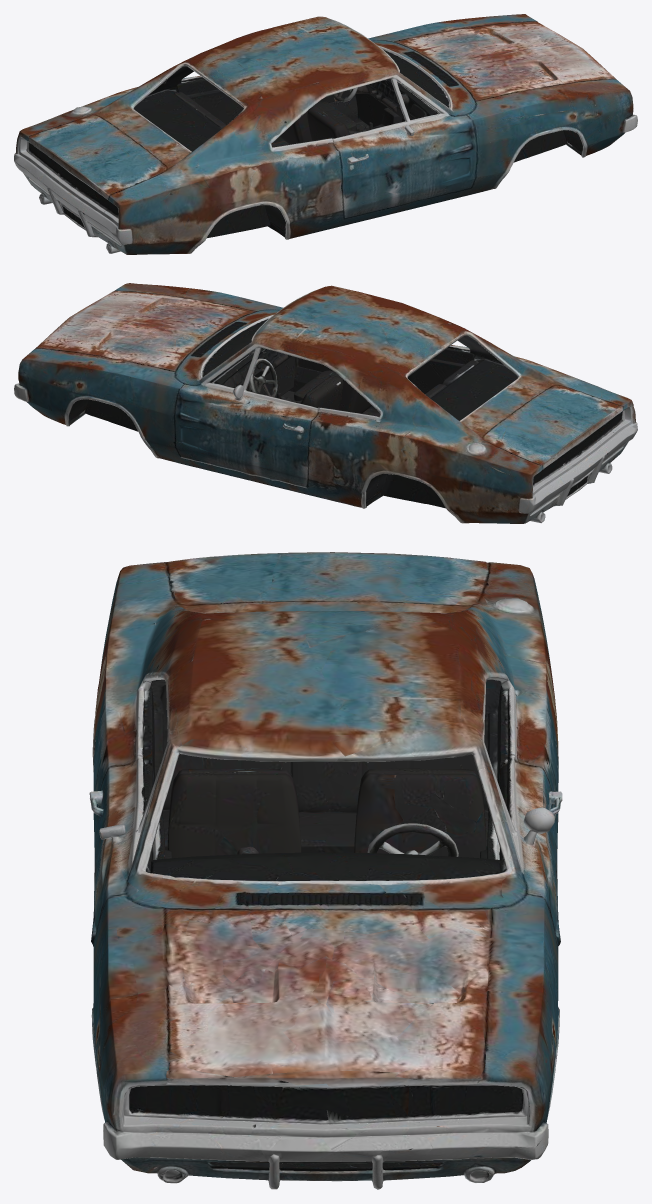
File: charger2.glb
3 renders of one model, top to bottom at view 1: azimuth 30°, elevation 25°; view 2: azimuth 150°, elevation 25°; view 3: azimuth 270°, elevation 25°, orthographic. The views are drawn at different scales.
Visible parts, largest first — view 1: charger2; view 2: charger2; view 3: charger2.
Boxes of the visible parts, bbox=[...] form: charger2: bbox=[14, 14, 637, 254]; charger2: bbox=[14, 283, 637, 523]; charger2: bbox=[89, 552, 562, 1189].
Size of the model in its own units: 5.28 by 1.31 by 2.05.
1 material, 1 textured.
